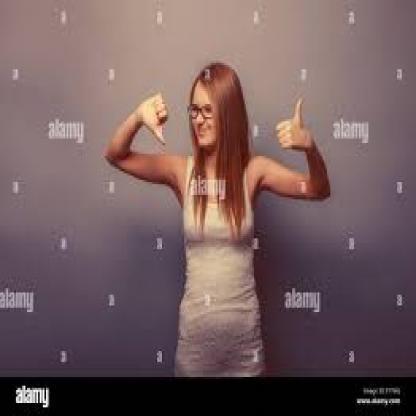thumb_down: (137, 88, 171, 148)
thumb_up: (274, 95, 310, 152)
